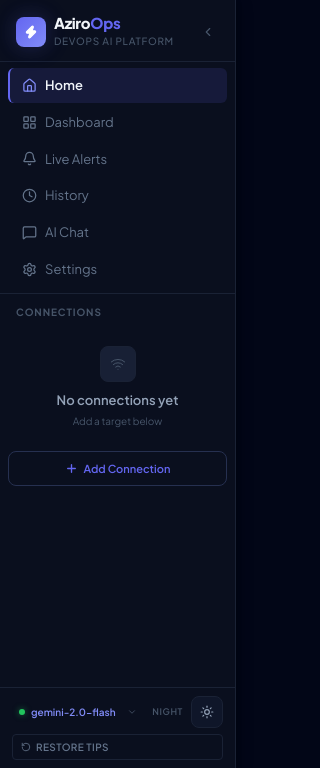
Test: Sidebar › opens model picker on click and shows "Select Model" header
Click the button titled "Click to change AI model" at (78, 712), box [12,700,144,724]
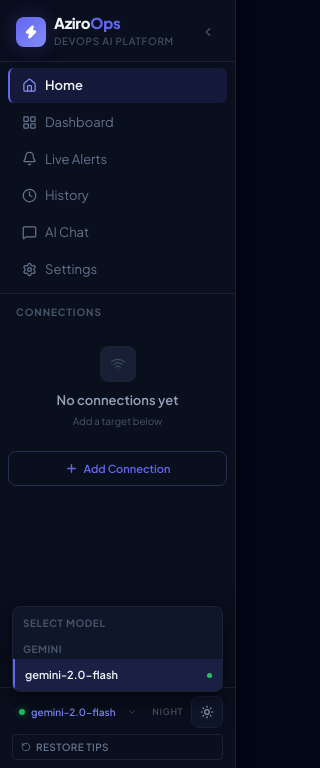
Expected: the text "Select Model" is shown, [23,617,105,629]
